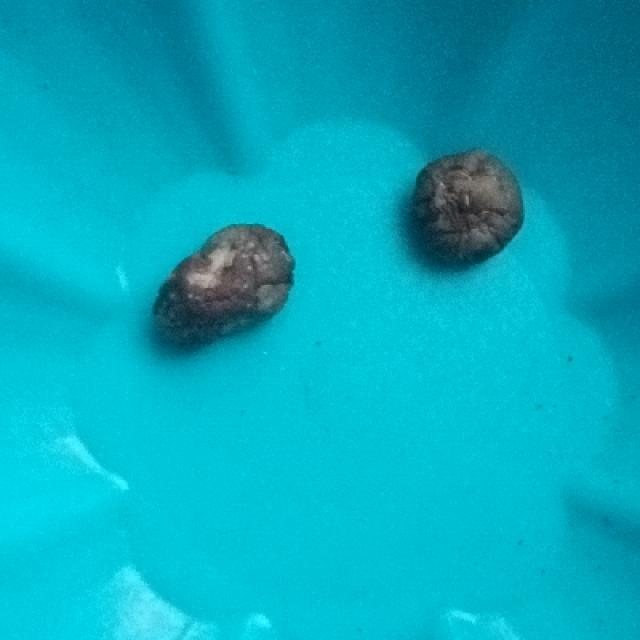Lentinus edodes: (154, 221, 294, 338), (414, 151, 527, 264)
